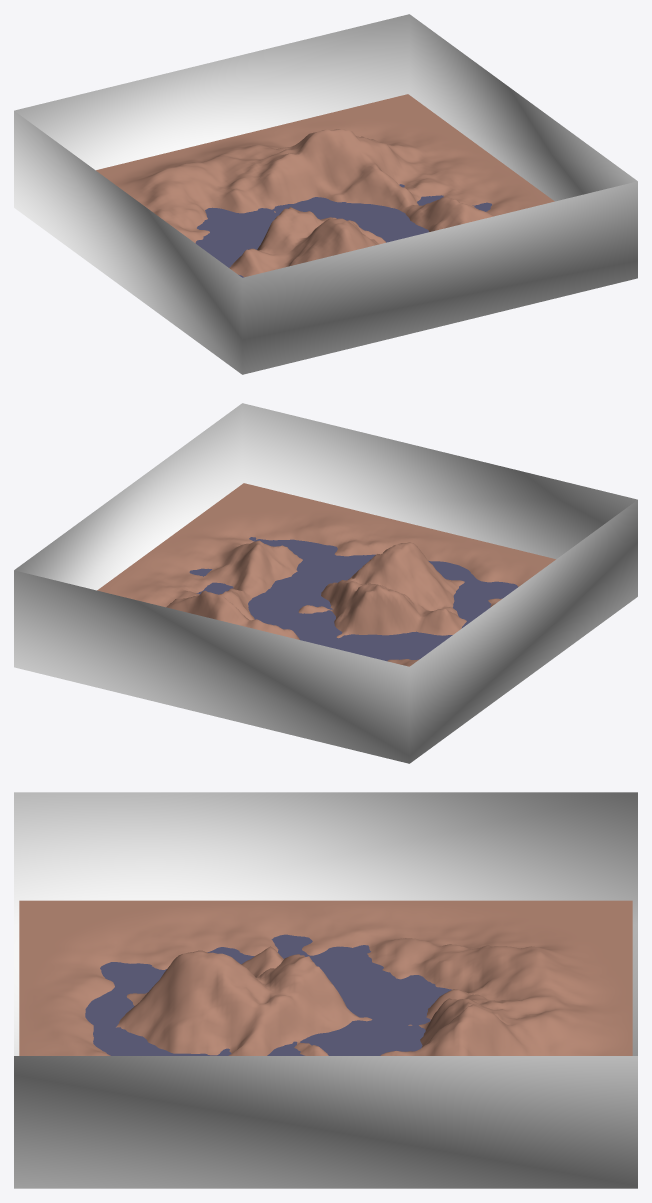
The model's file is Diorama_Lake.glb.
3 renders of one model, top to bottom at view 1: azimuth 30°, elevation 25°; view 2: azimuth 150°, elevation 25°; view 3: azimuth 270°, elevation 25°, orthographic. The views are drawn at different scales.
Parts seen in each view (by area): view 1: Cube, Landscape, Landscape_plane; view 2: Cube, Landscape, Landscape_plane; view 3: Cube, Landscape, Landscape_plane.
Boxes of the visible parts, x1,y1,x2,y2 form: Cube: (14,14,637,374); Landscape: (96,94,554,277); Landscape_plane: (195,184,491,277); Cube: (14,403,637,763); Landscape: (97,483,555,666); Landscape_plane: (189,537,517,661); Cube: (14,792,637,1188); Landscape: (19,900,632,1055); Landscape_plane: (85,934,451,1055).
Bounding box in the file's own units: 1.28 × 0.3029 × 1.28.
